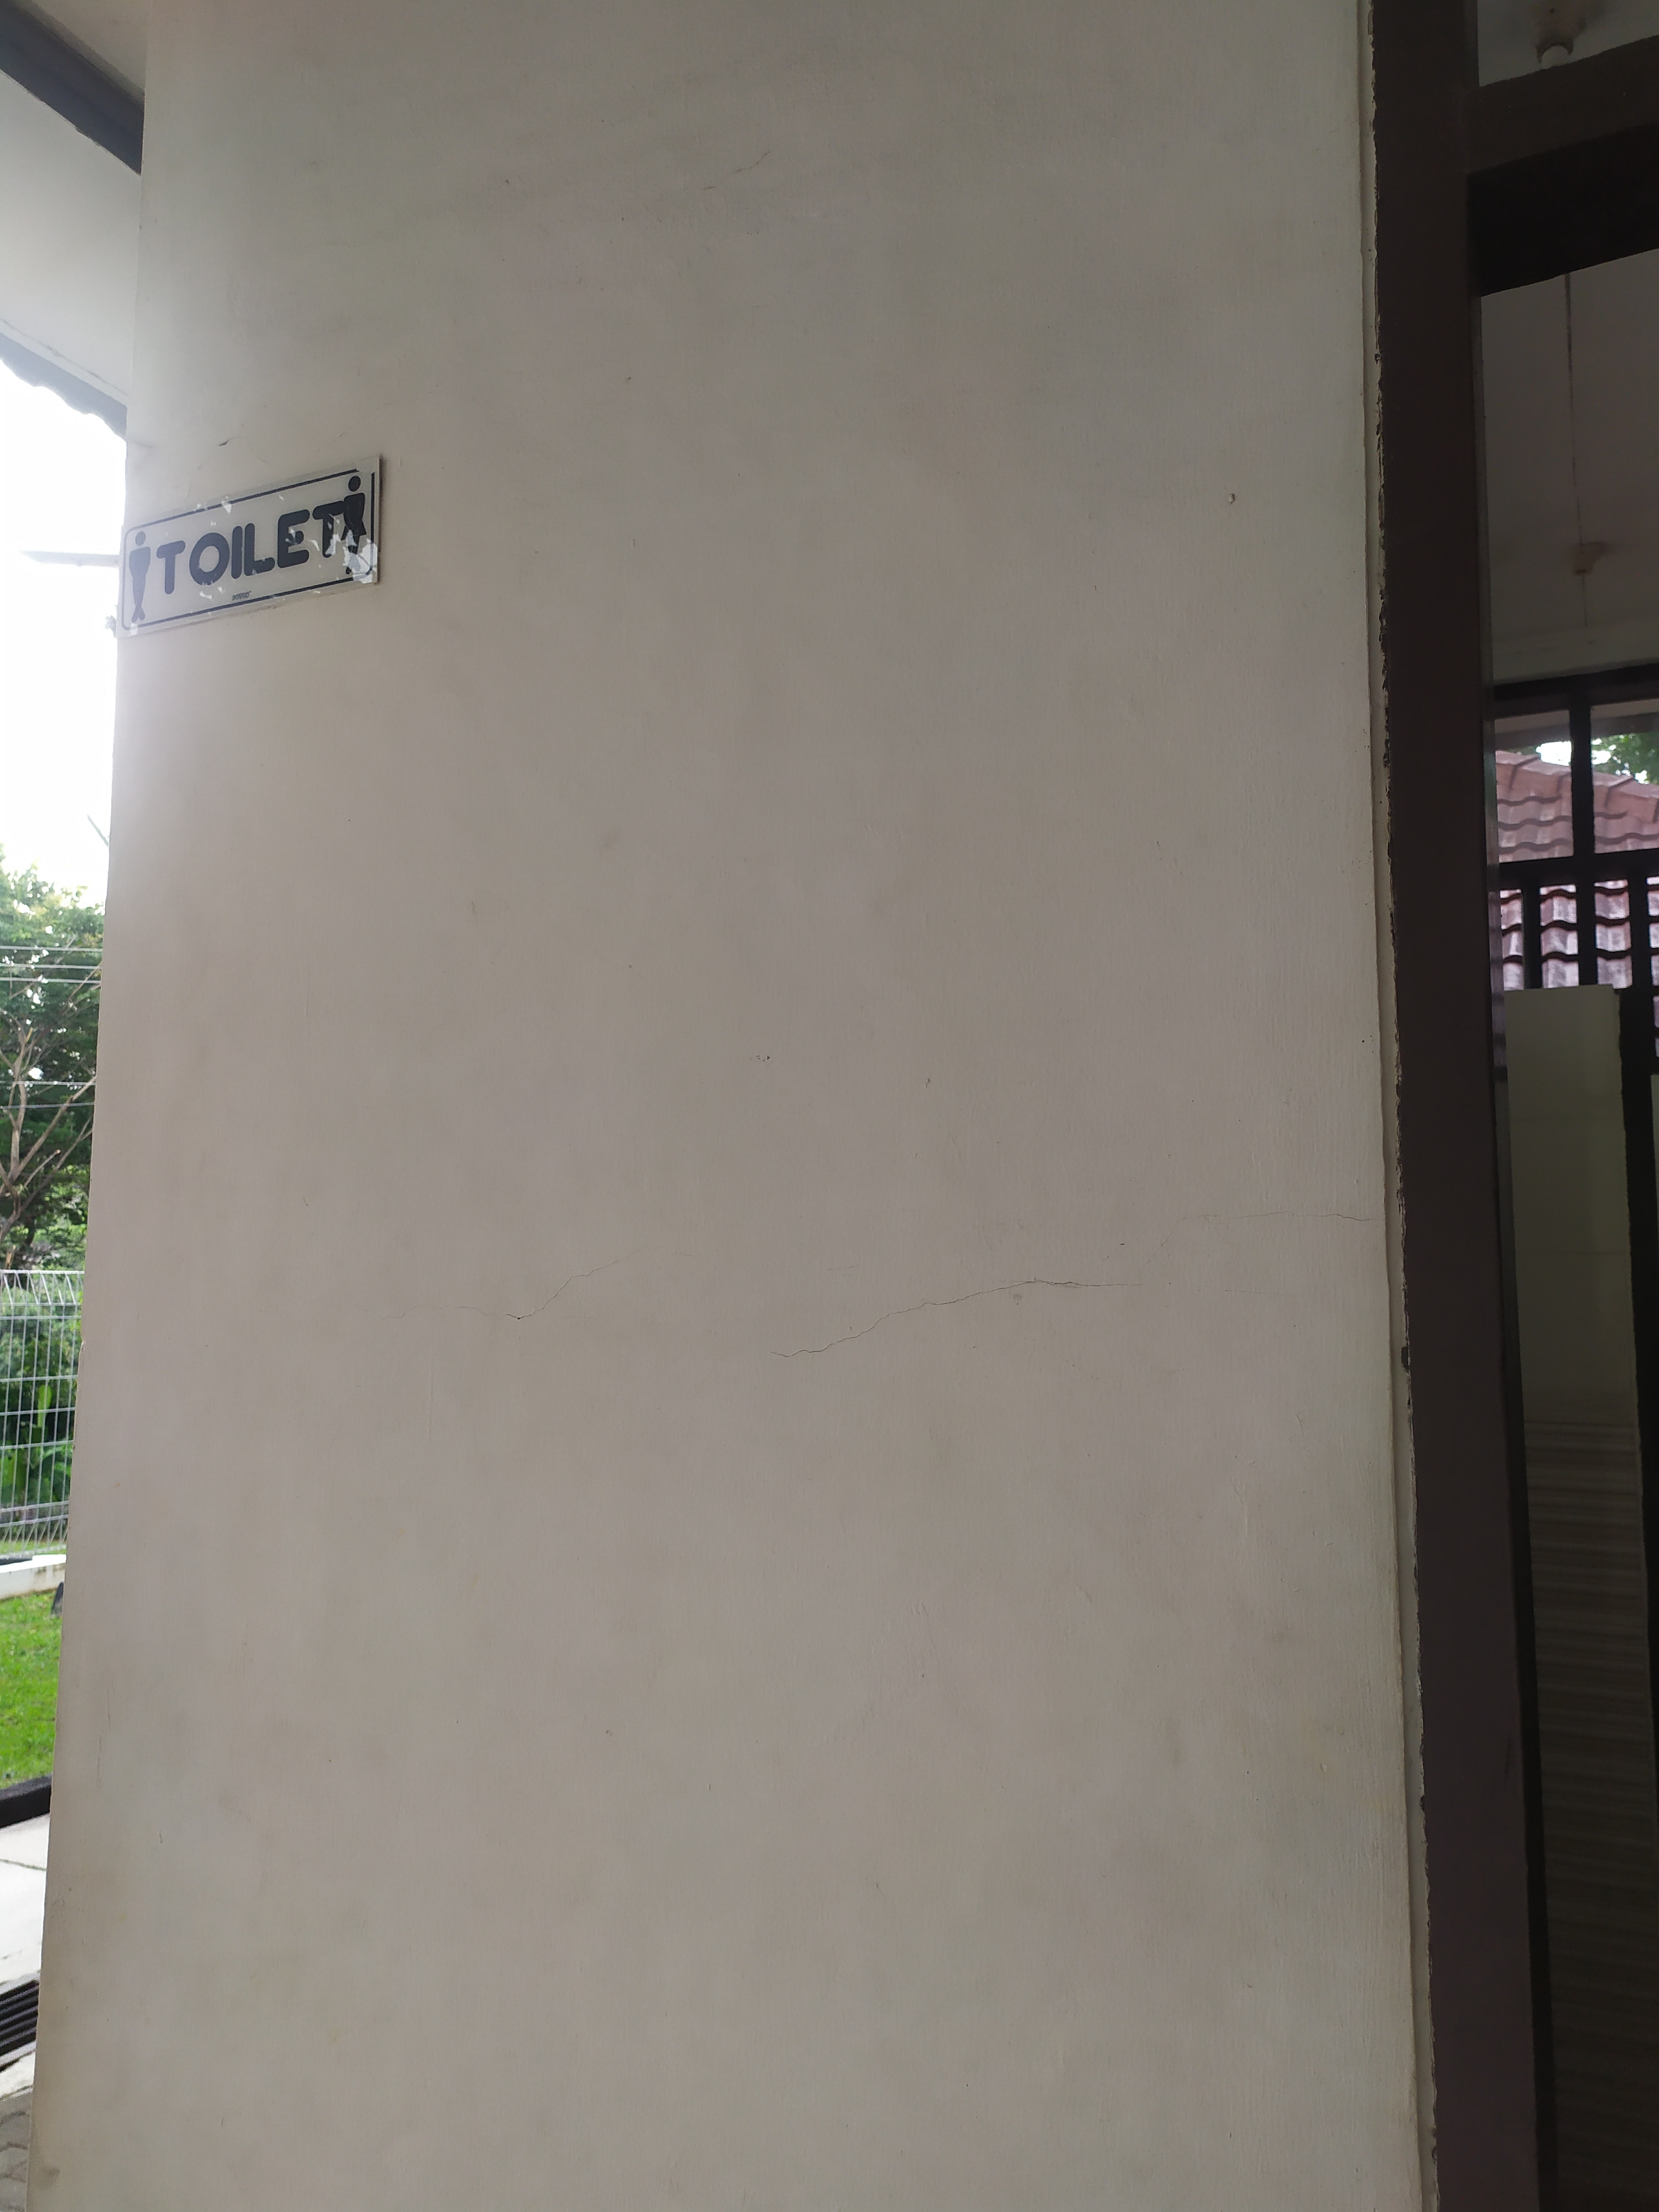crack: (770, 1277, 1145, 1360), (1204, 1209, 1384, 1226)
